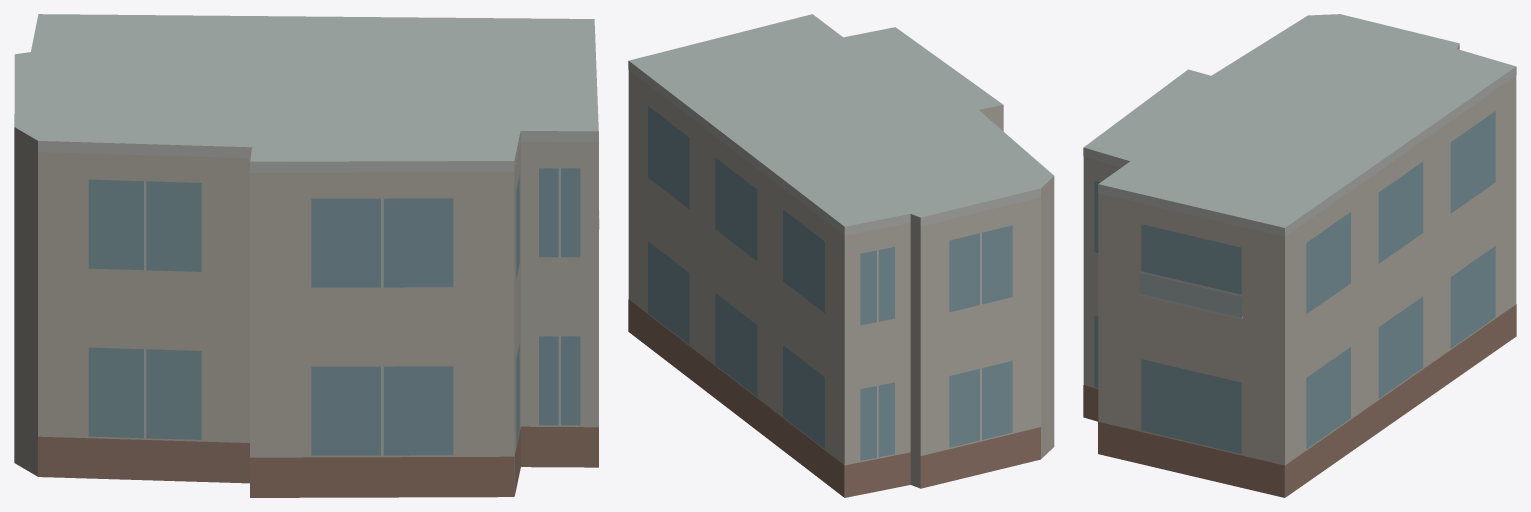
File: survey-upis-32756065.glb
3 renders of one model, left to right at view 1: azimuth 30°, elevation 25°; view 2: azimuth 150°, elevation 25°; view 3: azimuth 270°, elevation 25°, orthographic. The views are drawn at different scales.
Parts seen in each view (by area): view 1: survey-upis-32756065.tmp; view 2: survey-upis-32756065.tmp; view 3: survey-upis-32756065.tmp.
Boxes of the visible parts, x1,y1,x2,y2 form: survey-upis-32756065.tmp: [14, 14, 599, 497]; survey-upis-32756065.tmp: [628, 14, 1054, 497]; survey-upis-32756065.tmp: [1083, 14, 1516, 497].
Size of the model in its own units: 12.59 by 7.4 by 10.76.
